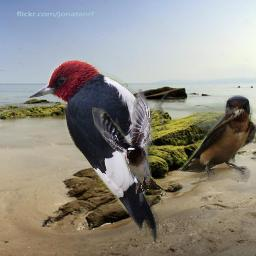Swallow: (92, 89, 164, 194), (180, 95, 256, 182)
Woodpecker: (21, 57, 169, 242)
